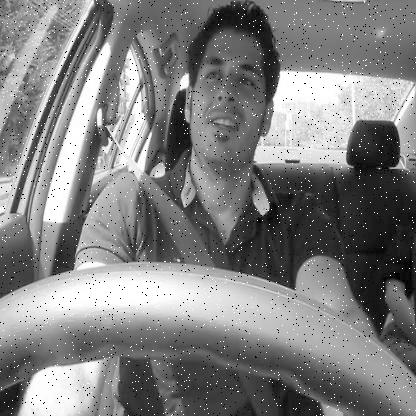seatbelt: (94, 1, 301, 416)
